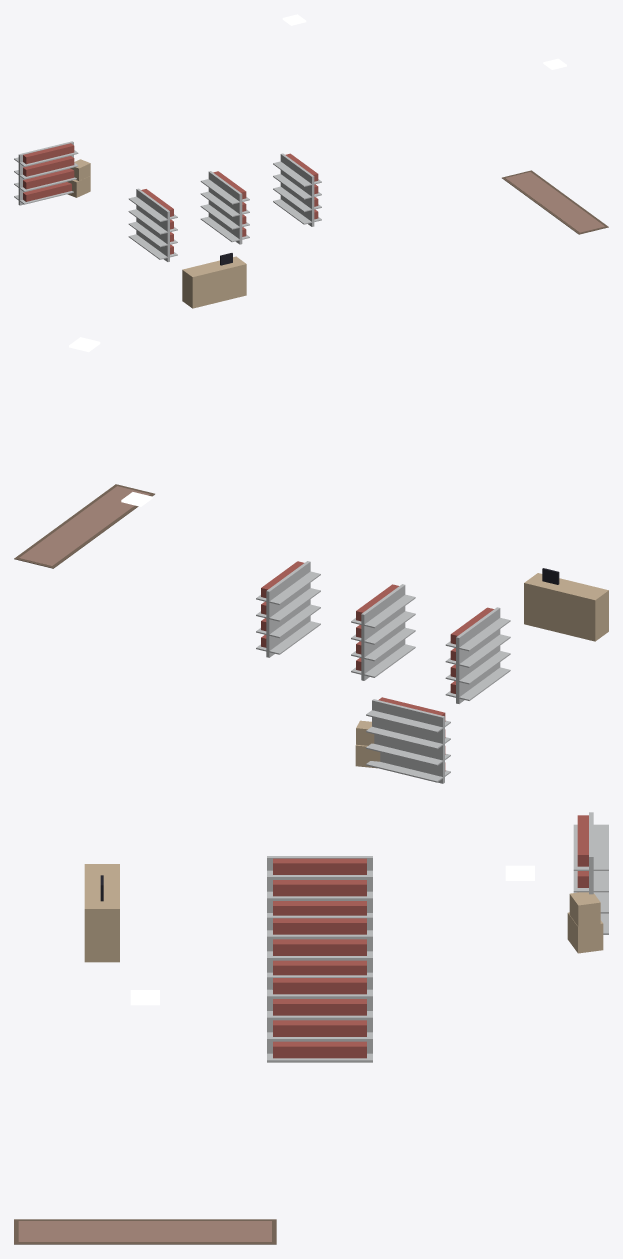
Rendered from fine-s0.glb.
3 renders of one model, top to bottom at view 1: azimuth 30°, elevation 25°; view 2: azimuth 150°, elevation 25°; view 3: azimuth 270°, elevation 25°, orthographic. The views are drawn at different scales.
Visible parts, largest first — view 1: shelving.000, shop-counter.000, shelf.001, shelf.002, shelf.000, soft-s0, cardboard-box.000; view 2: shelving.000, shop-counter.000, shelf.000, shelf.002, shelf.001, soft-s0, cardboard-box.000; view 3: shelf.002, soft-s0, shelf.001, shelf.000, shop-counter.000, shelving.000, cardboard-box.000.
Boxes of the visible parts, bbox=[...] form: shelving.000: bbox=[14, 141, 78, 205]; shop-counter.000: bbox=[182, 253, 246, 308]; shelf.001: bbox=[200, 171, 249, 244]; shelf.002: bbox=[273, 153, 321, 226]; shelf.000: bbox=[128, 188, 177, 261]; soft-s0: bbox=[502, 170, 608, 234]; cardboard-box.000: bbox=[67, 159, 90, 197]; shelving.000: bbox=[366, 697, 450, 783]; shop-counter.000: bbox=[524, 568, 608, 641]; shelf.000: bbox=[445, 607, 510, 703]; shelf.002: bbox=[256, 561, 320, 657]; shelf.001: bbox=[351, 584, 415, 680]; soft-s0: bbox=[14, 484, 154, 568]; cardboard-box.000: bbox=[355, 720, 380, 768]; shelf.002: bbox=[267, 975, 372, 1062]; soft-s0: bbox=[14, 1219, 276, 1244]; shelf.001: bbox=[267, 915, 372, 975]; shelf.000: bbox=[267, 856, 372, 915]; shop-counter.000: bbox=[84, 864, 119, 962]; shelving.000: bbox=[573, 812, 608, 934]; cardboard-box.000: bbox=[567, 892, 603, 953].
Size of the model in its own units: 13.97 by 4.43 by 10.11.
